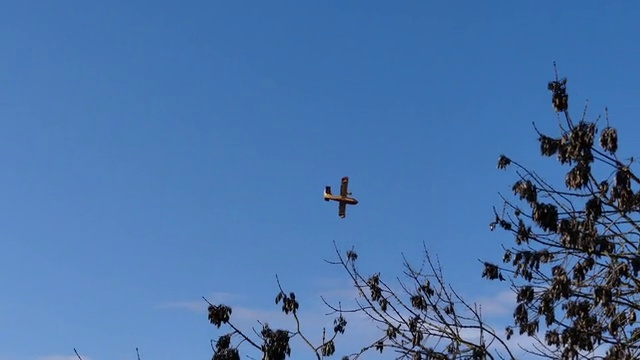plane: (324, 176, 358, 218)
